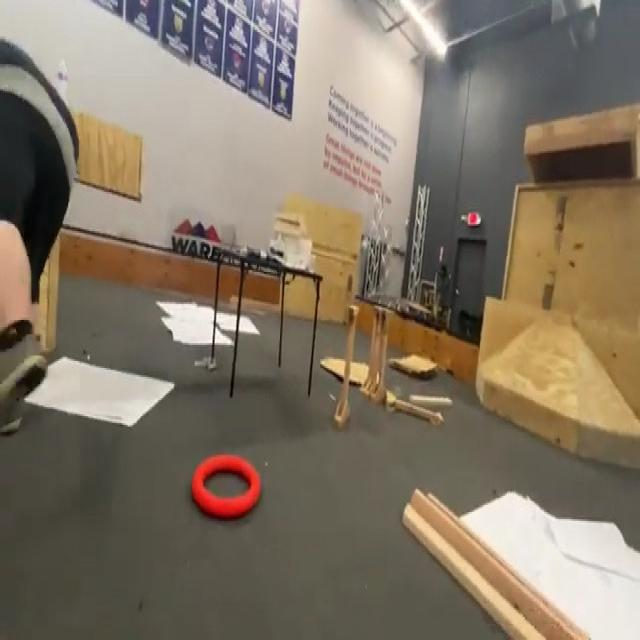note: (190, 456, 261, 520)
